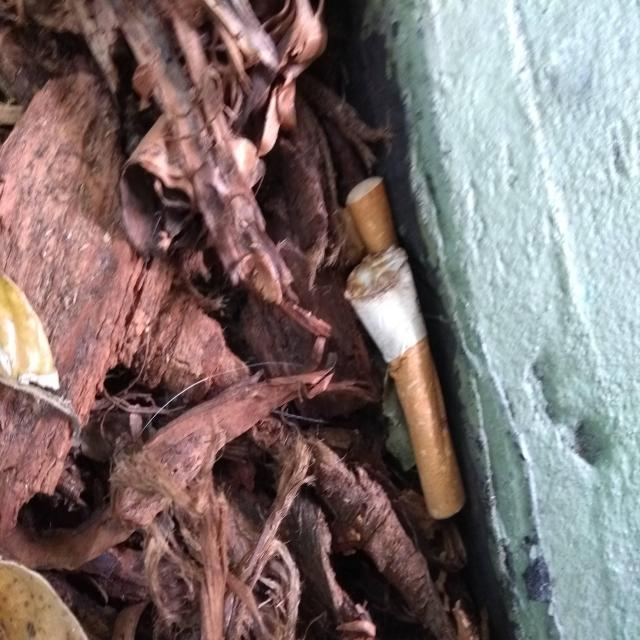litter: (347, 247, 468, 519), (344, 176, 395, 250)
